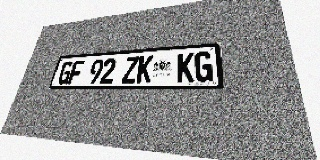2: (100, 58, 117, 84)
9: (87, 59, 105, 84)
F: (67, 60, 85, 84)
G: (195, 51, 213, 82), (57, 61, 74, 84)
K: (177, 52, 194, 82), (136, 55, 153, 83)
Z: (122, 56, 139, 83)
